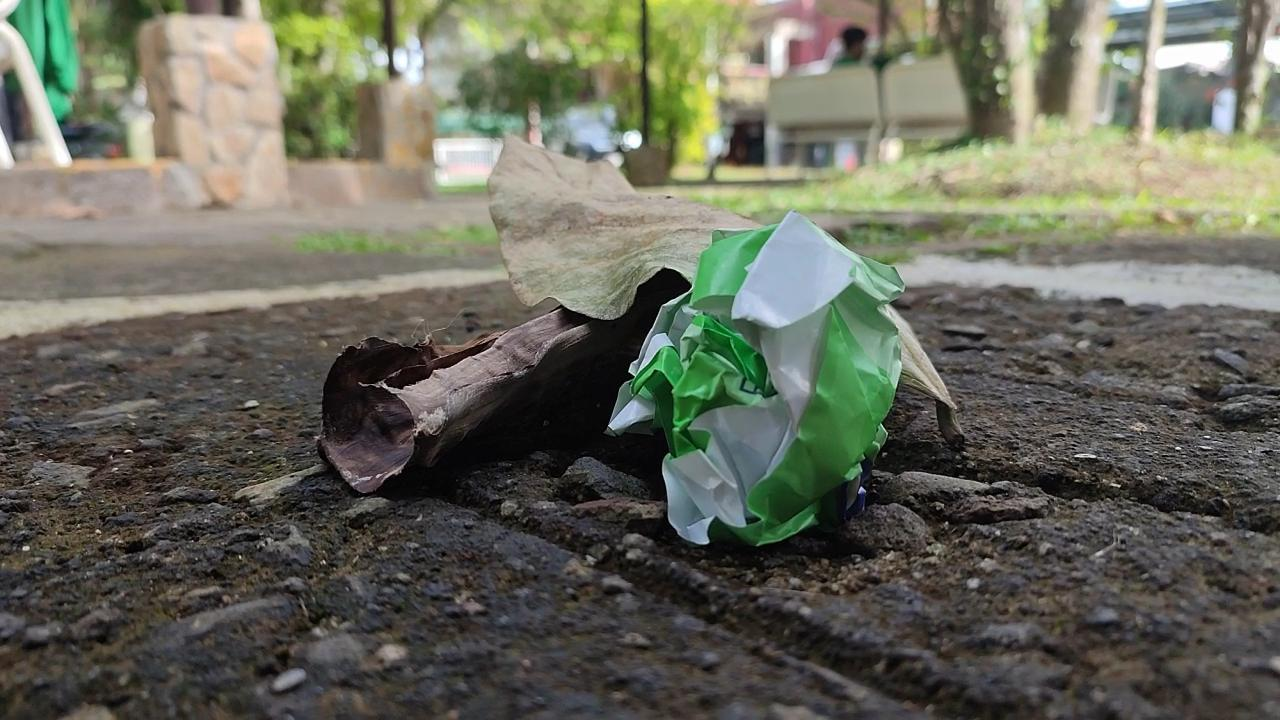Paper: (592, 182, 915, 557)
